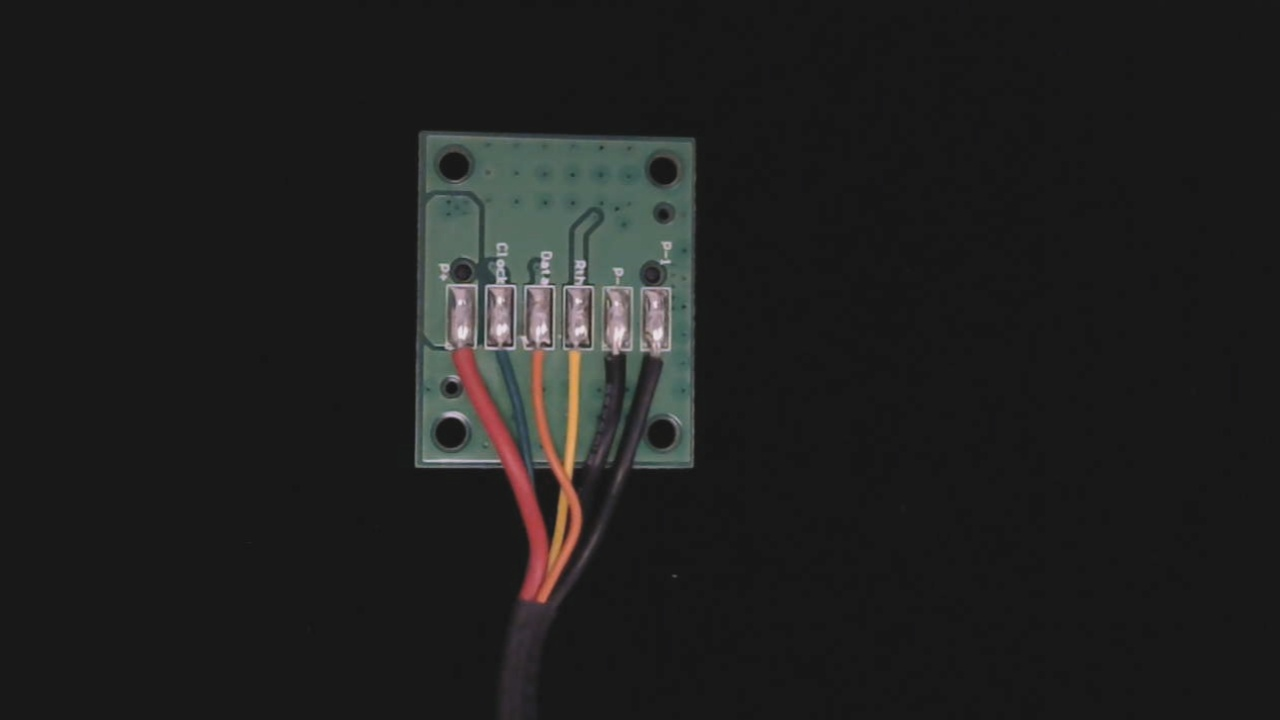Black: (617, 324, 654, 399)
Black1: (658, 327, 694, 396)
Green: (497, 325, 531, 386)
Orange: (538, 326, 572, 400)
Red: (455, 326, 492, 398)
Yellow: (573, 326, 610, 402)
